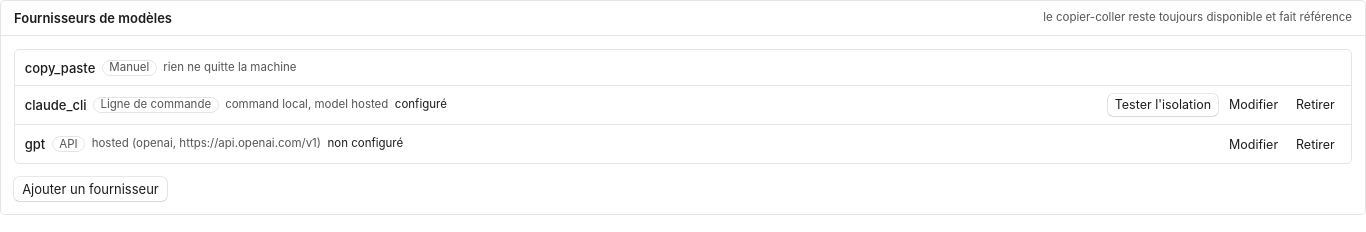
Test: model providers › removes an entry
Check: the text "claude_cli" is shown, box [25,96,86,114]
Click the button with aria-label "Retirer claude_cli" at (1315, 105), box [1290,94,1341,116]
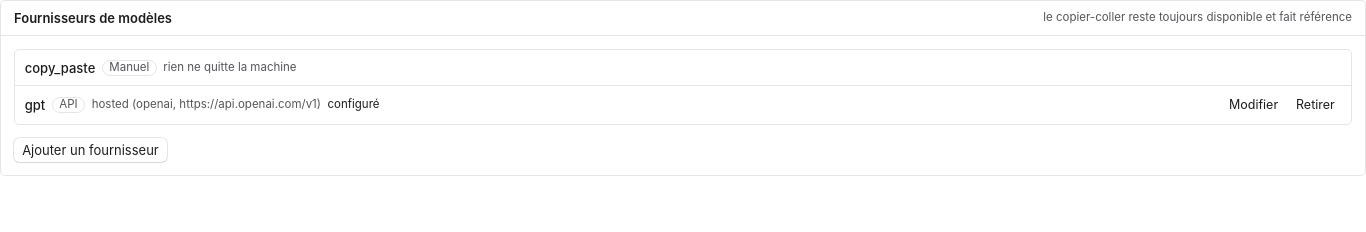
Check: the text "claude_cli" is gone
